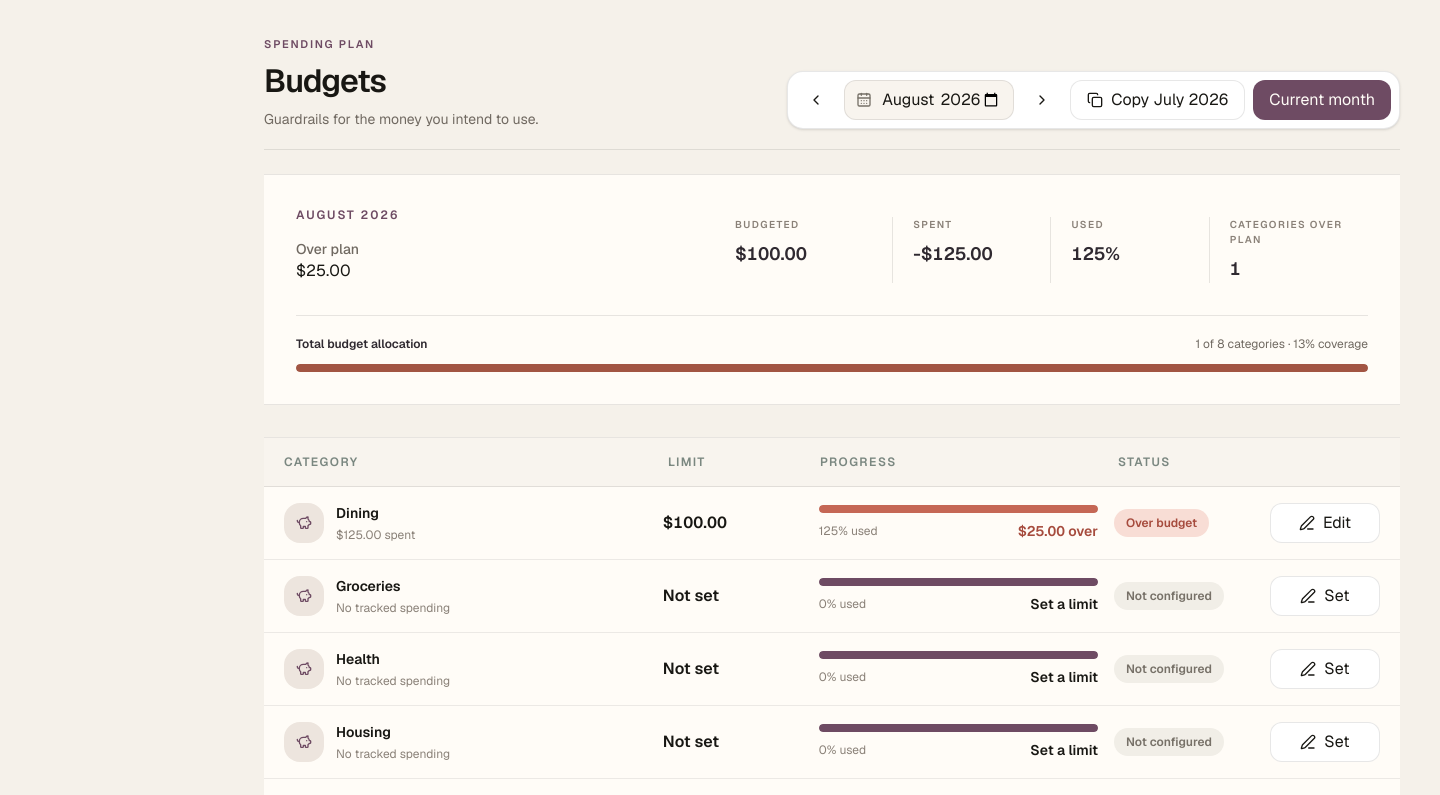
Test: budget editor drawer accessibility › exposes dialog semantics and an accessible close control
Click the button "Edit": (1325, 522) [1270, 502, 1380, 542]
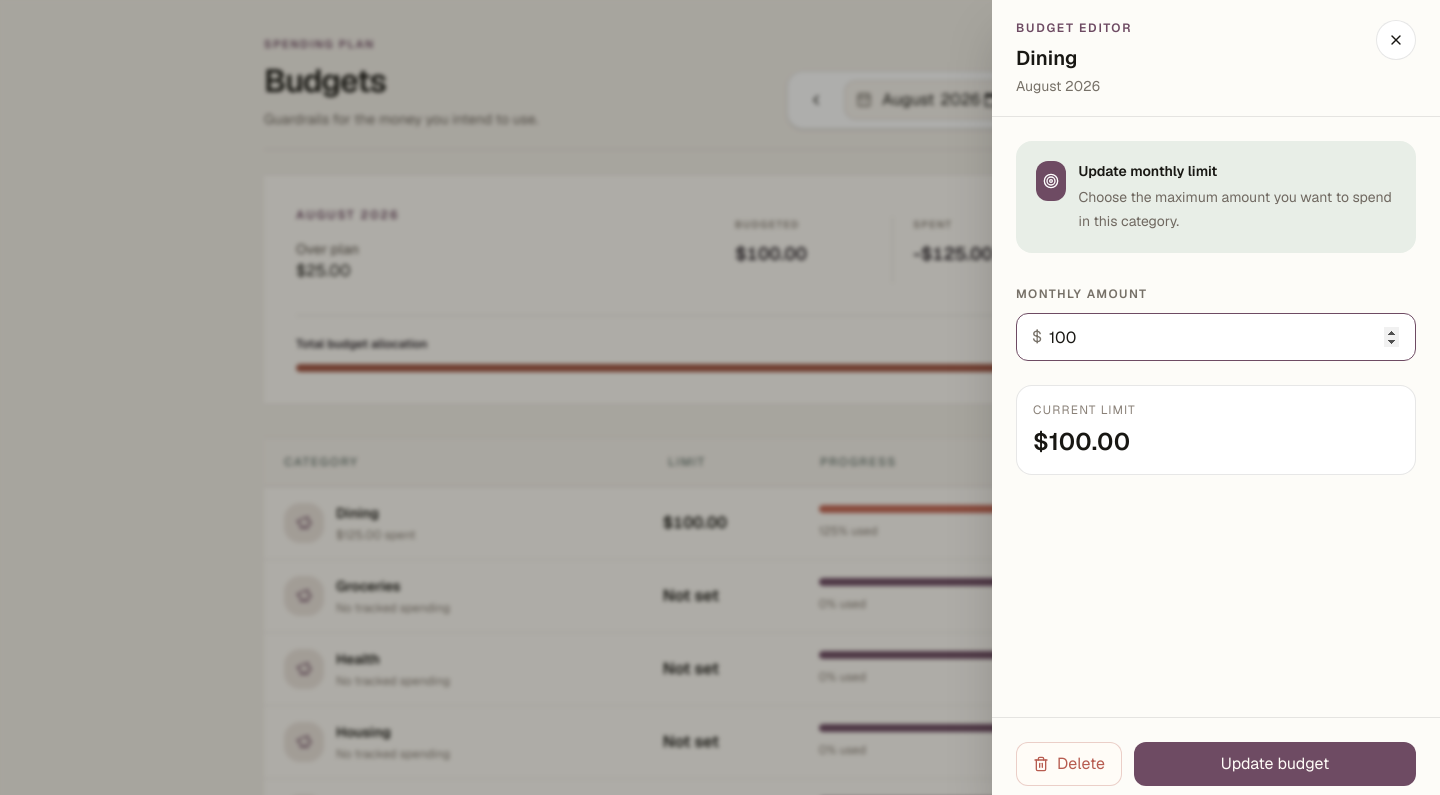
Now the button named "Close budget editor" in the row of "Budget editor" is shown, box [1376, 20, 1416, 60]
